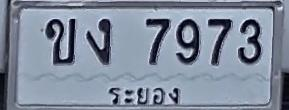3: (238, 18, 262, 64)
7: (145, 18, 170, 65), (208, 18, 232, 66)
9: (176, 18, 199, 64)
A02: (45, 18, 76, 65)
A07: (86, 18, 111, 65)
RYG: (105, 83, 183, 110)
